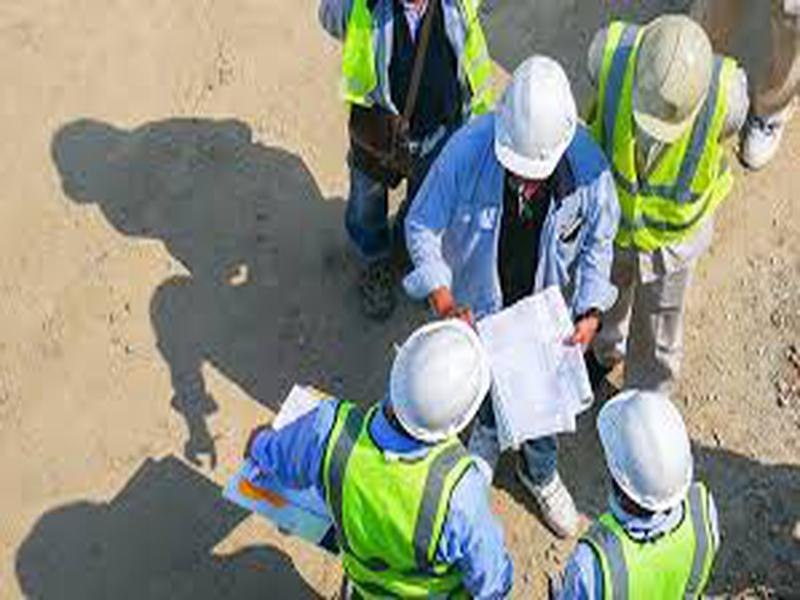hard-hat: (387, 317, 495, 442), (595, 387, 697, 514), (625, 11, 716, 149), (491, 53, 580, 181)
